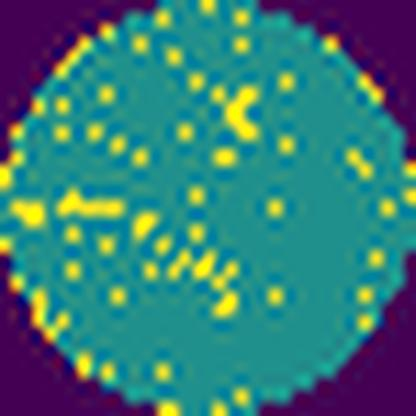Scratch: (51, 184, 129, 224)
